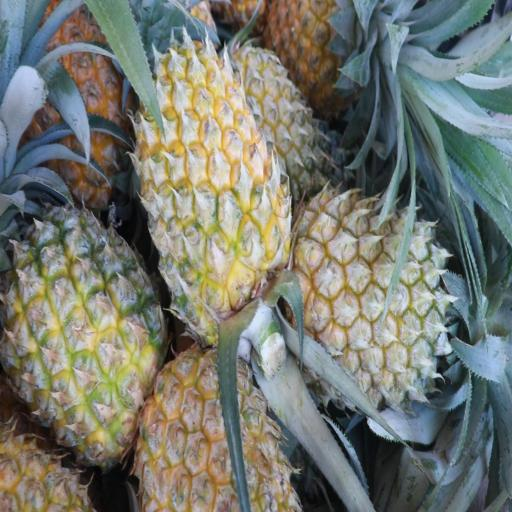------------------------------: (2, 199, 178, 474)
Pineapple - v8 v1: (127, 20, 291, 354), (284, 177, 478, 421), (260, 4, 406, 131)
